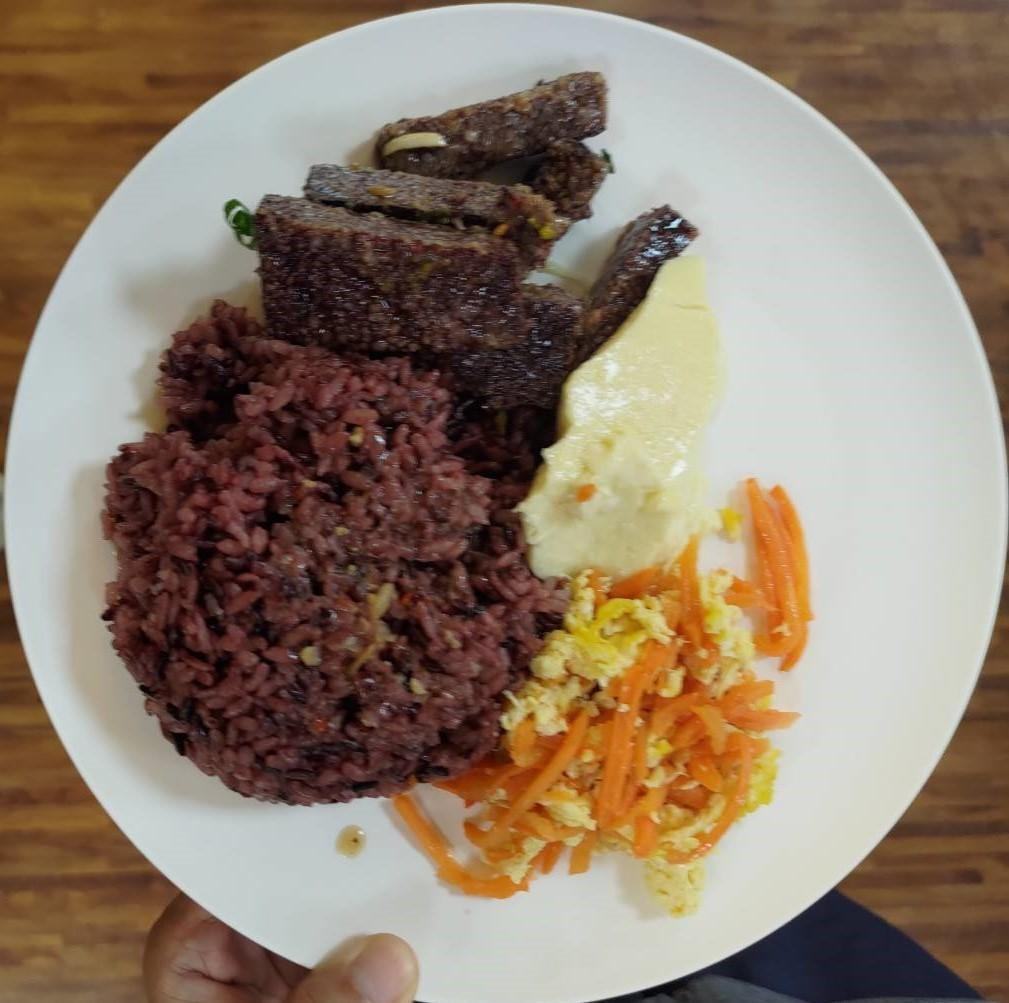big fried chicken leg: (3, 1, 1009, 1003)
braised fish: (94, 310, 550, 805)
braised fish fillet: (251, 63, 700, 457), (414, 480, 818, 907), (510, 256, 728, 581)
